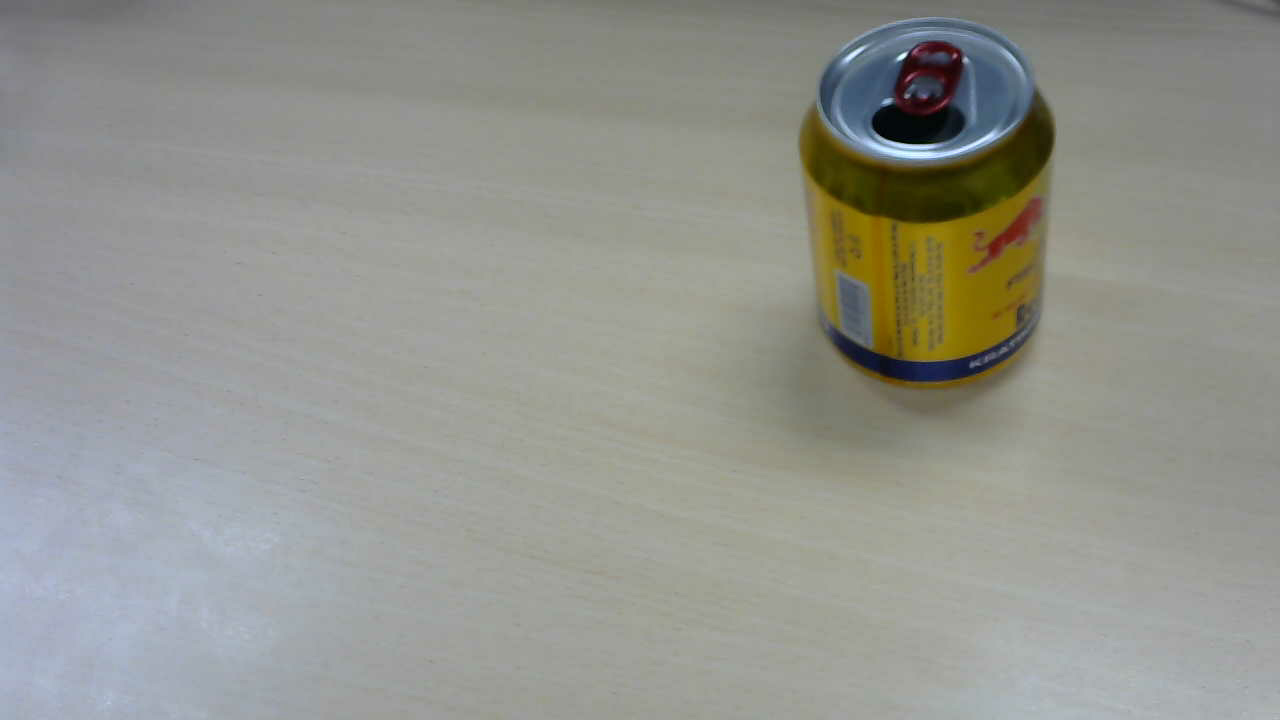Red_Bull: (799, 22, 1063, 392)
